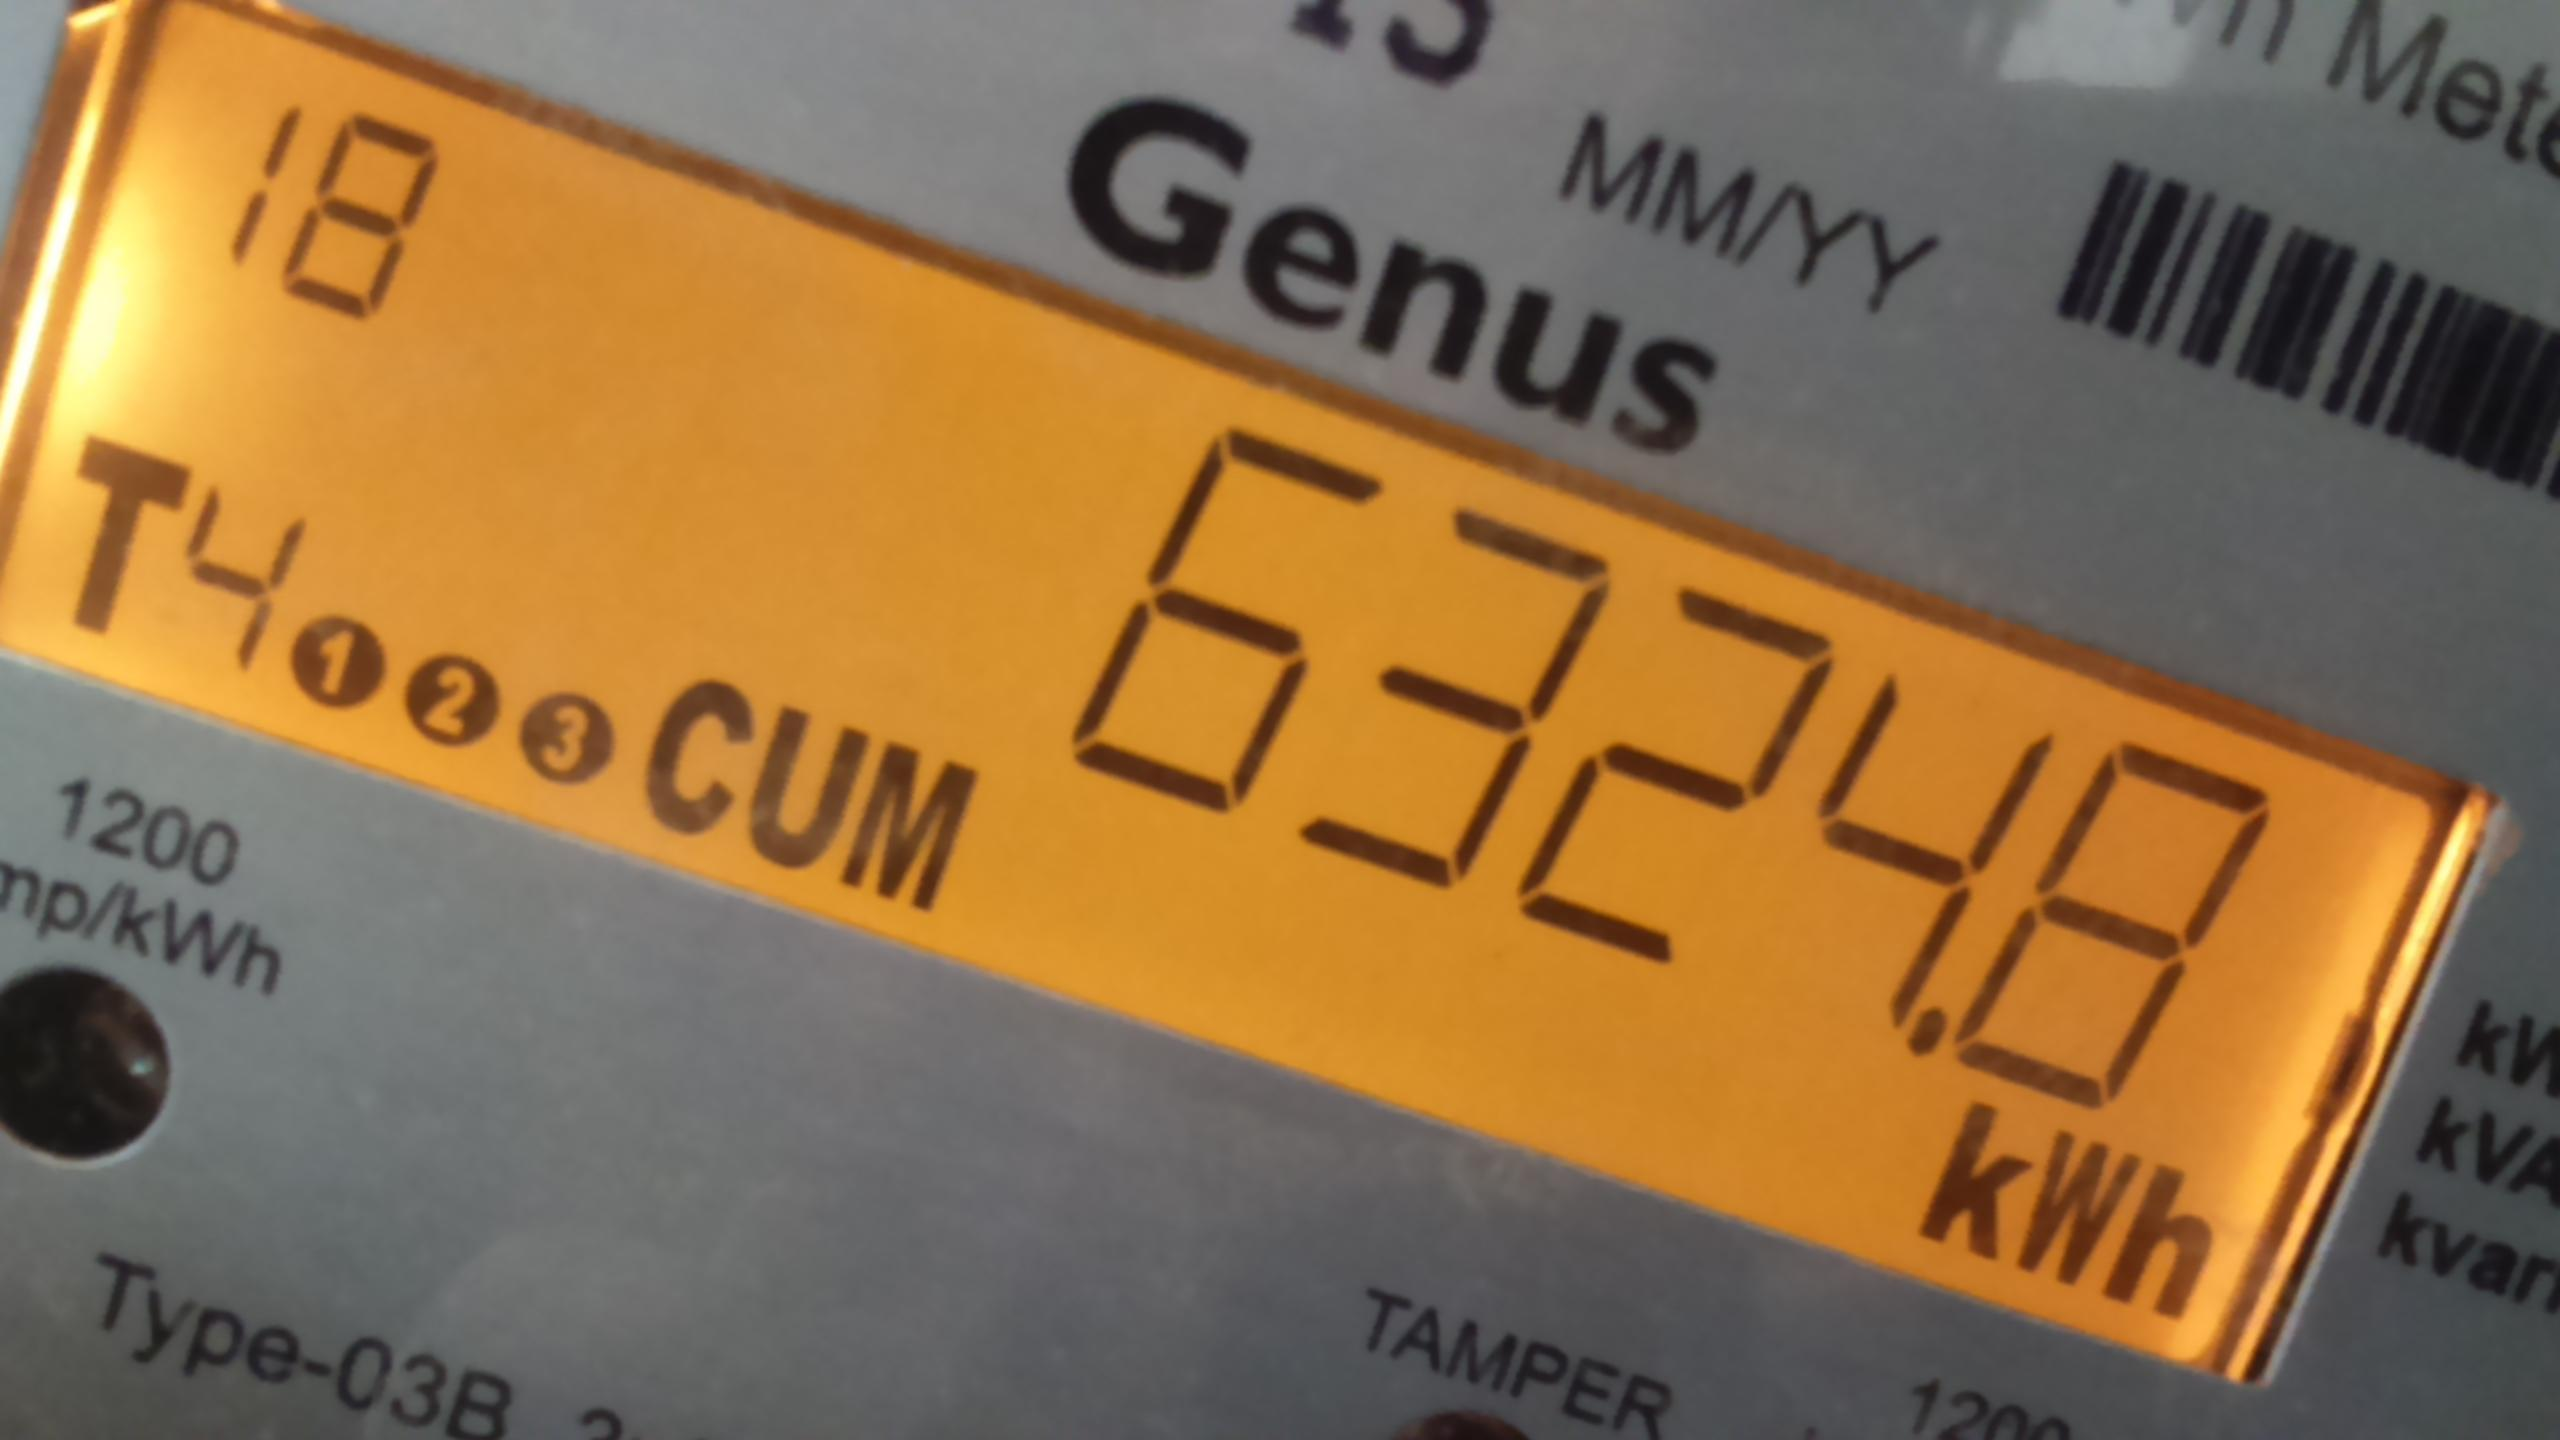.: (1911, 1100, 2218, 1341)
0: (1874, 993, 1982, 1076)
3: (1511, 538, 1852, 992)
4: (1288, 483, 1662, 886)
5: (1754, 638, 2092, 1052)
7: (1058, 388, 1412, 862)
9: (1921, 733, 2297, 1119)
